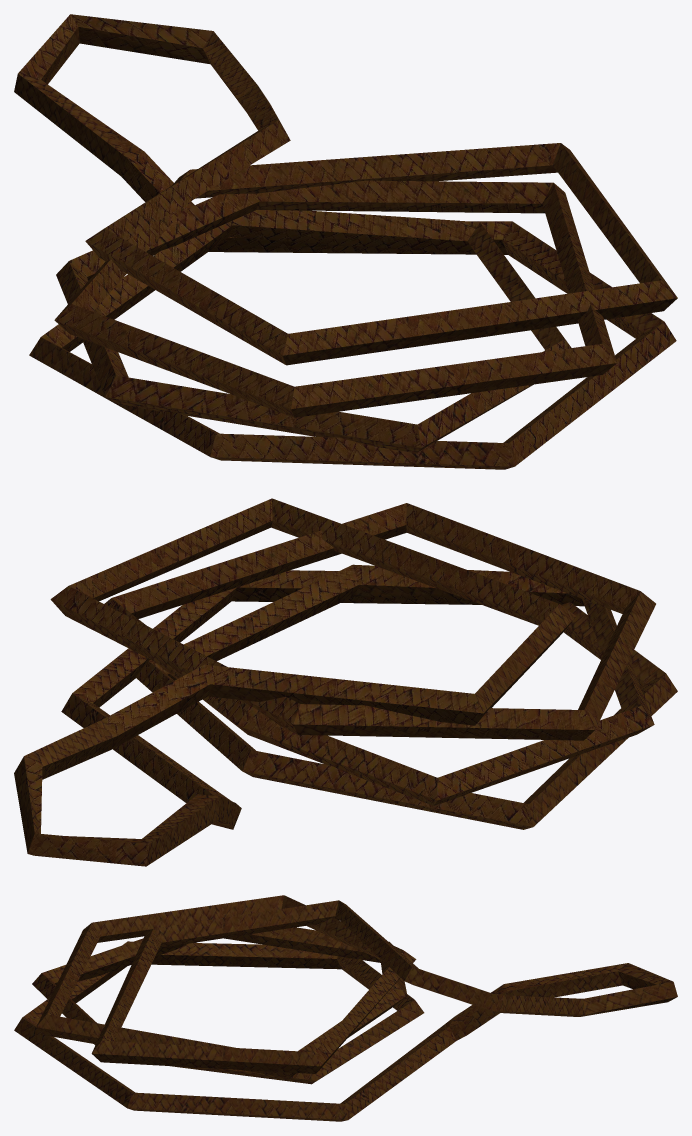
The model's file is MISTRZOWSKA_CIECIWA.glb.
The picture shows the model from 3 angles, top to bottom: view 1: azimuth 30°, elevation 25°; view 2: azimuth 150°, elevation 25°; view 3: azimuth 270°, elevation 25°; orthographic projection. The views are drawn at different scales.
Parts seen in each view (by area): view 1: MISTRZOWSKA_CIECIWA; view 2: MISTRZOWSKA_CIECIWA; view 3: MISTRZOWSKA_CIECIWA.
Boxes of the visible parts, box(x1,y1,x2,y2) form: MISTRZOWSKA_CIECIWA: box(14, 14, 677, 469); MISTRZOWSKA_CIECIWA: box(14, 498, 677, 866); MISTRZOWSKA_CIECIWA: box(14, 895, 677, 1121).
Size of the model in its own units: 0.4551 by 0.112 by 0.7025.
1 material, 1 textured.
